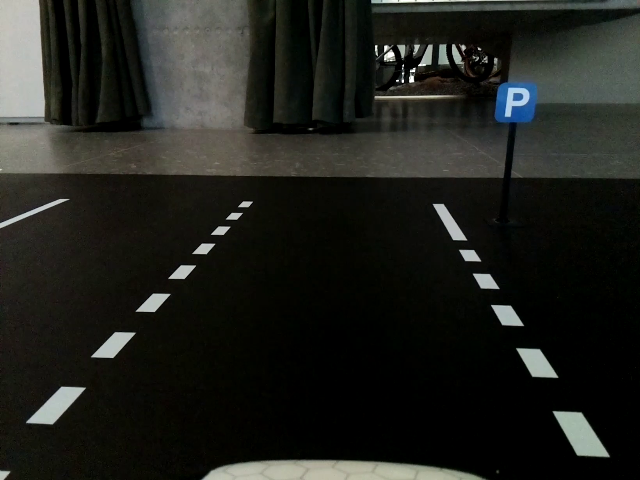park: (492, 85, 537, 126)
